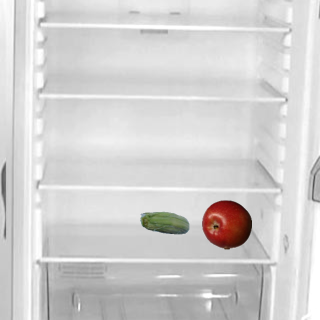Apple Braeburn: (201, 199, 251, 249)
Corn Husk: (139, 199, 189, 249)
